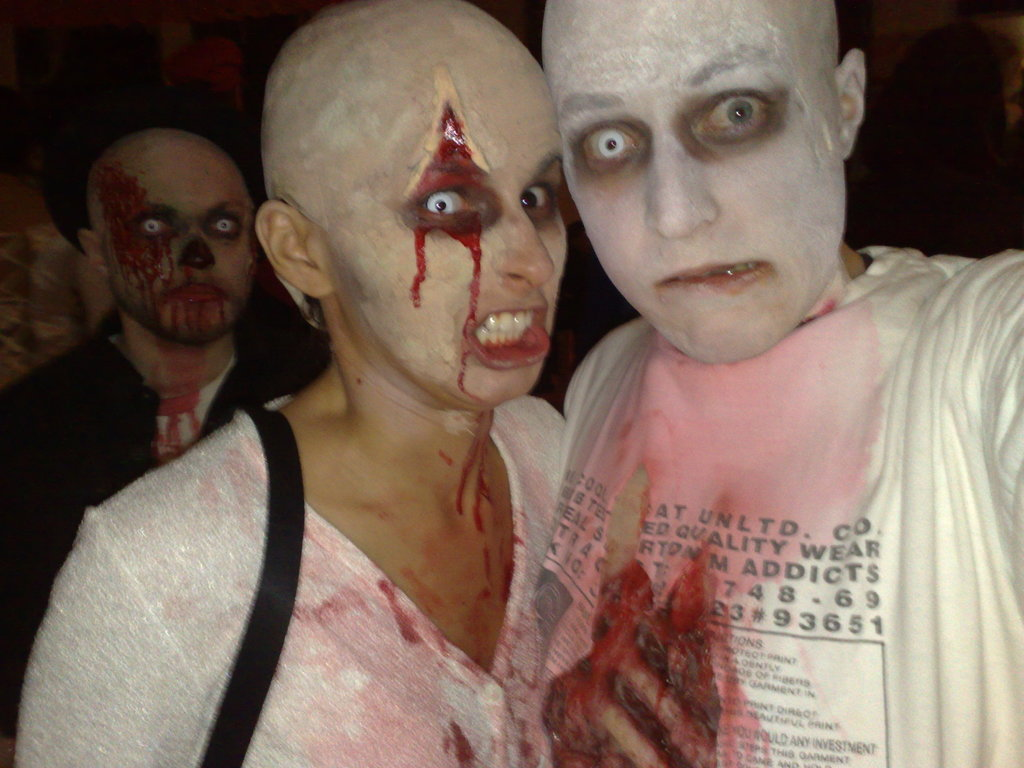Person: (9, 0, 570, 768), (540, 0, 1024, 768), (0, 127, 308, 768), (0, 139, 112, 398)
